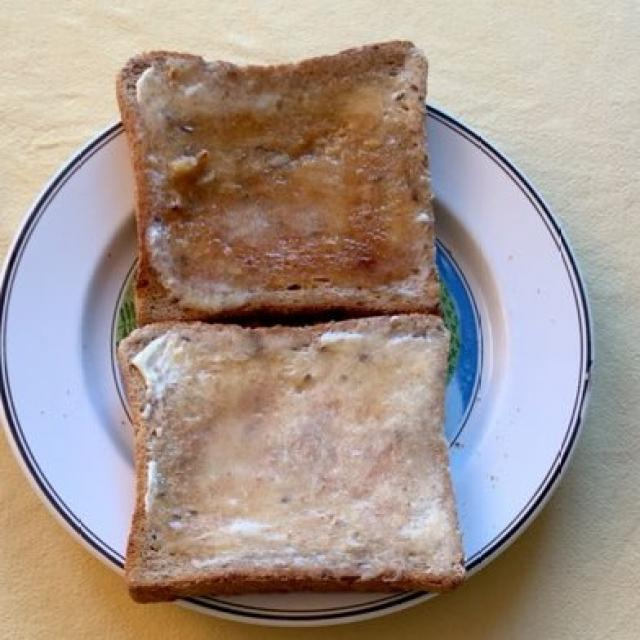bread-wholemeal-toast: (117, 39, 480, 604)
honey: (138, 89, 428, 565)
